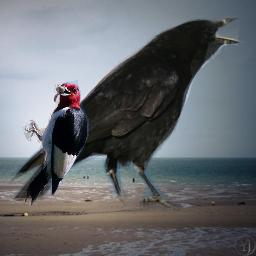Crow: (9, 13, 244, 215)
Woodpecker: (20, 75, 89, 210)
